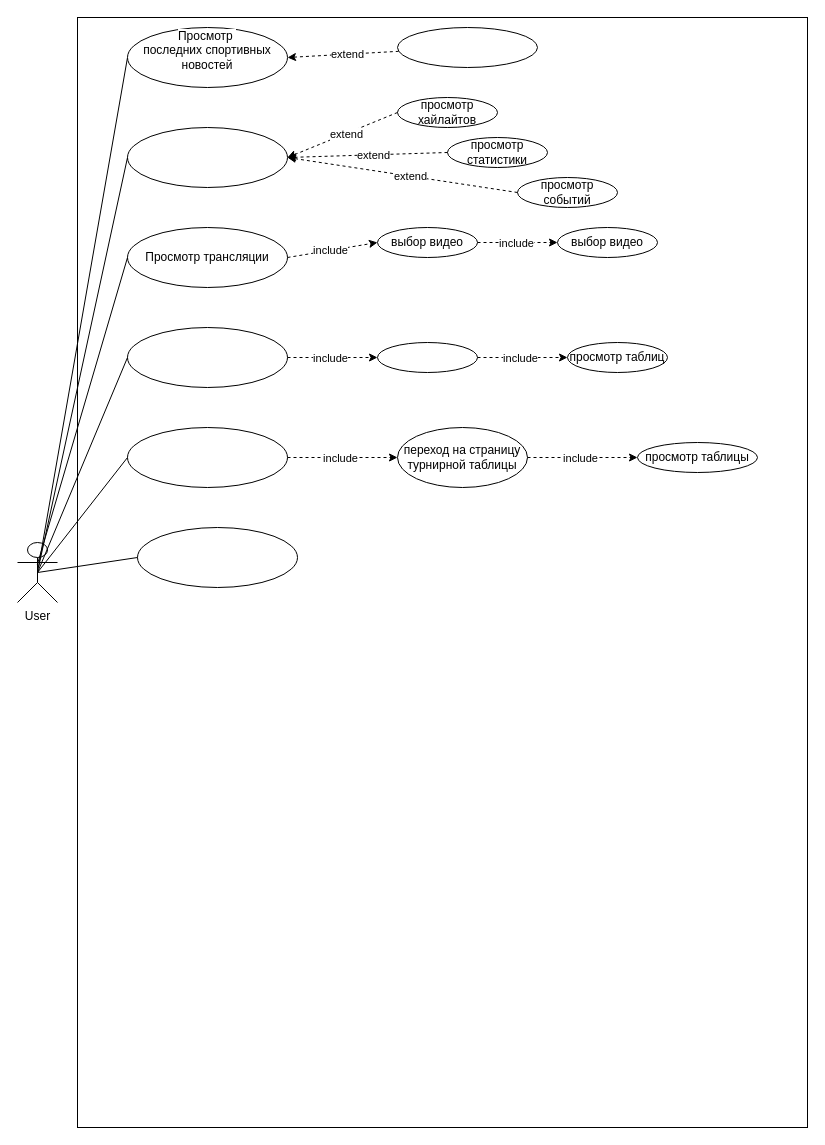
The diagram is 825 pixels wide and 1145 high, and some of its shapes have lost their labels. Here are the shapes that lost their labels. From the top down, the box of each, then its label:
(396, 26, 538, 68): просмотр видое, которое в новости
(126, 126, 288, 188): Получение уведомлений о результатах матчей
(126, 326, 288, 388): Детальный анализ матча
(376, 342, 478, 372): выбор матча
(126, 426, 288, 488): Просмотр турнирной таблицы
(136, 526, 298, 588): Сохранение избранных команд и матчей
